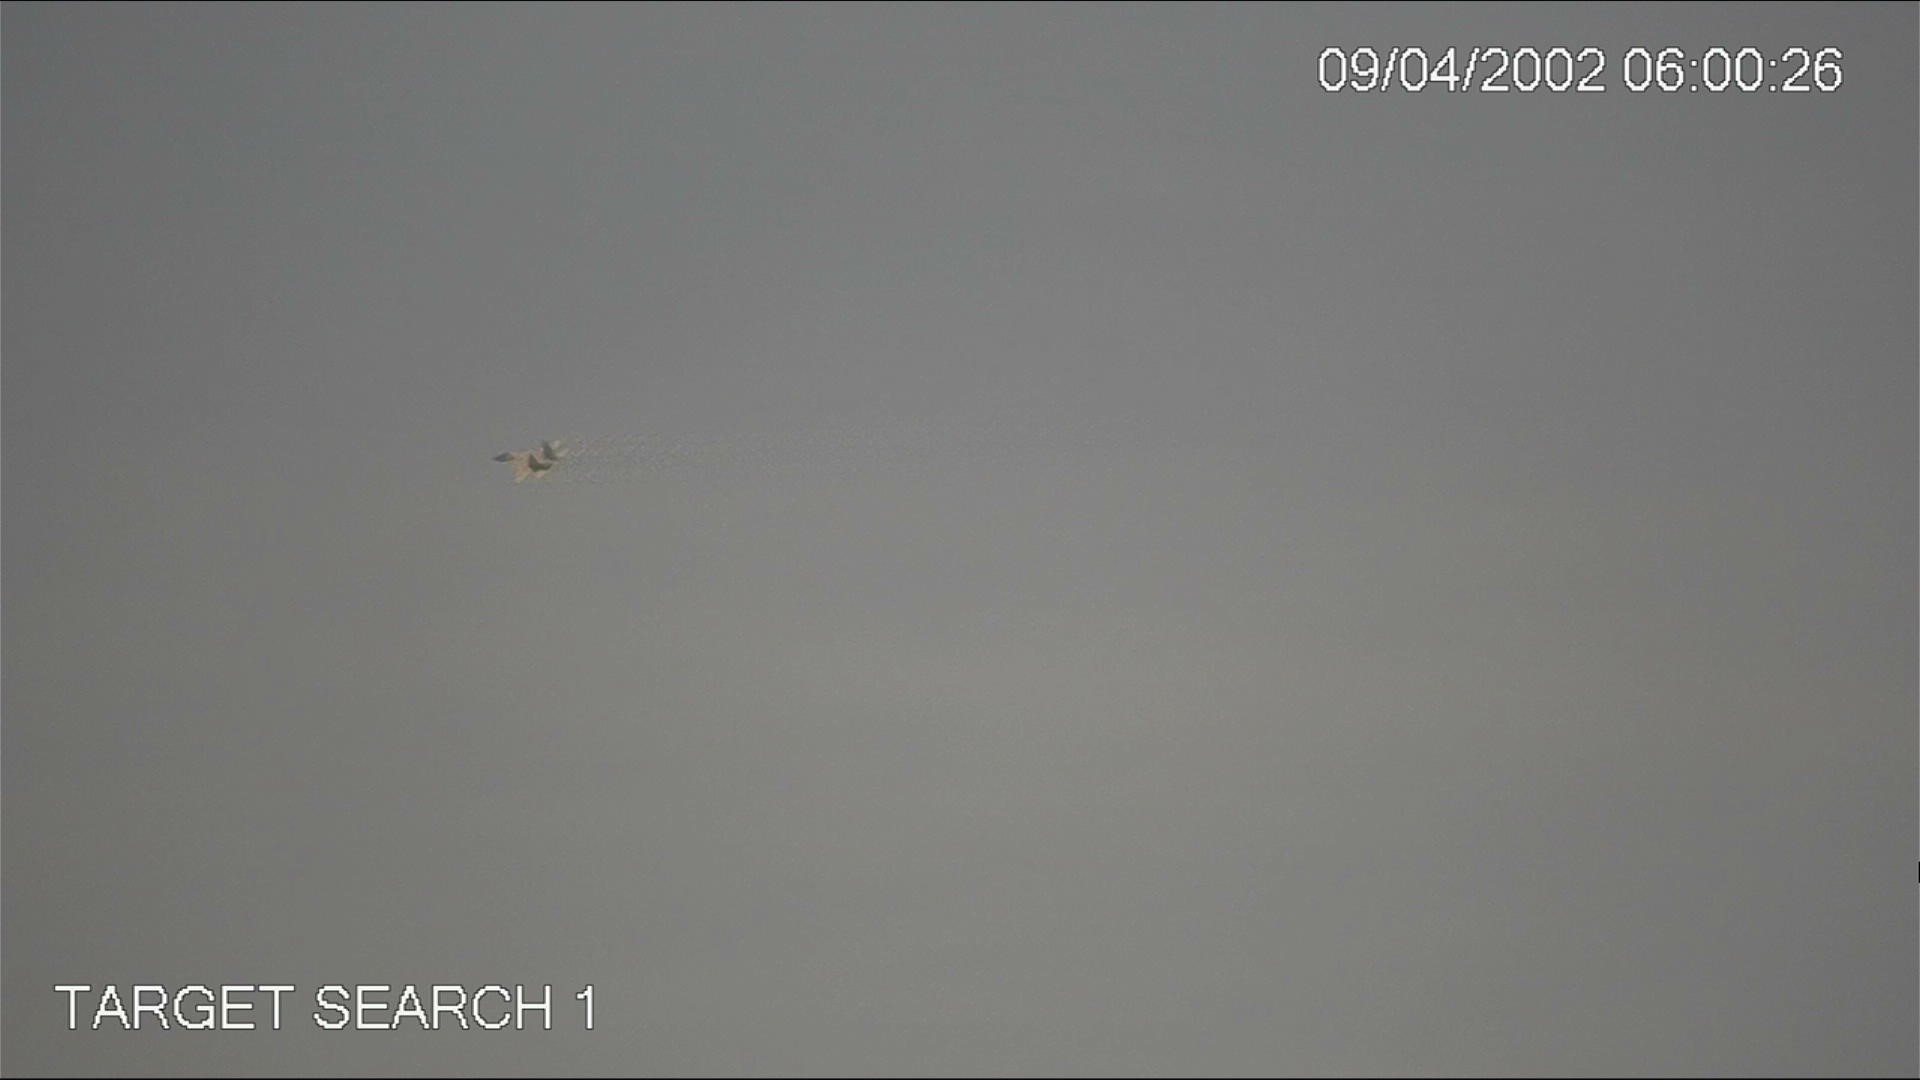SU_30: (491, 436, 566, 488)
